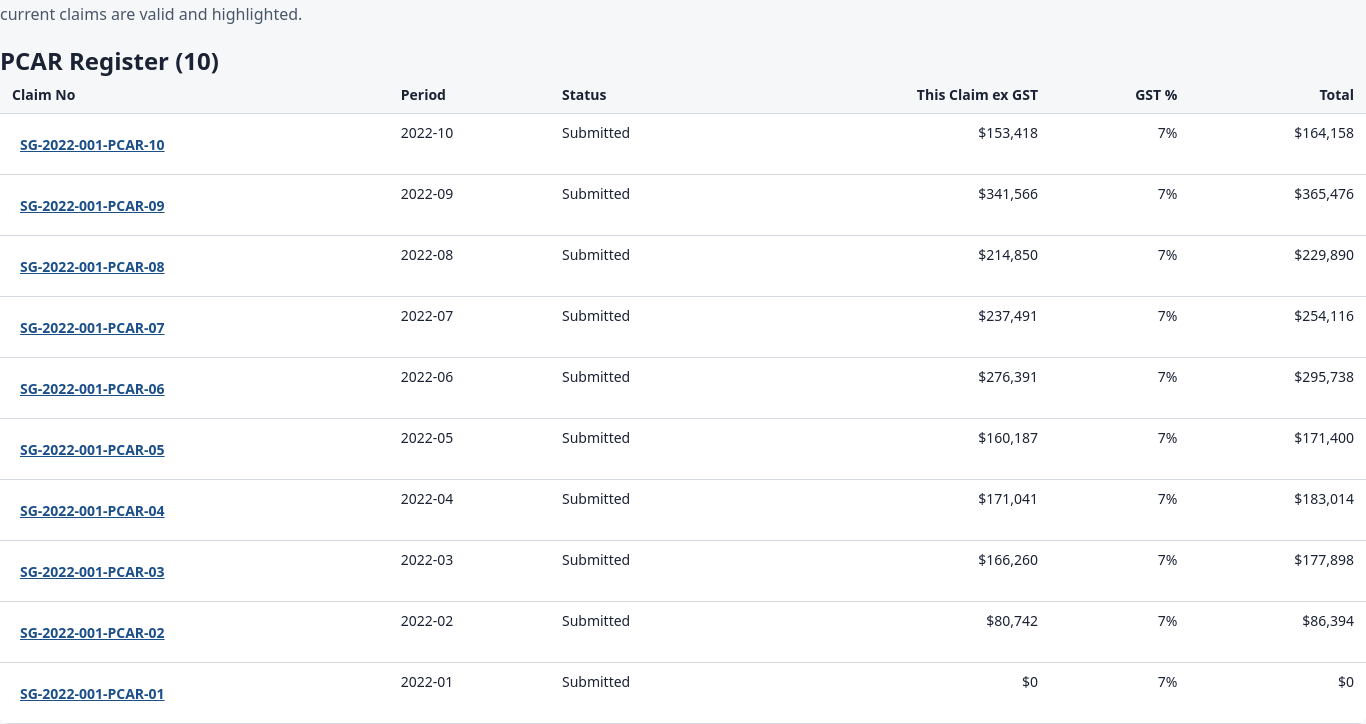
Test: ClaimsView (TASK-007) › opens the wizard and shows the SPEC-004 summary fields
(page scrolled)
Click the button "SG-2022-001-PCAR-01": {"x": 92, "y": 693} [12,671,173,715]
(page scrolled)
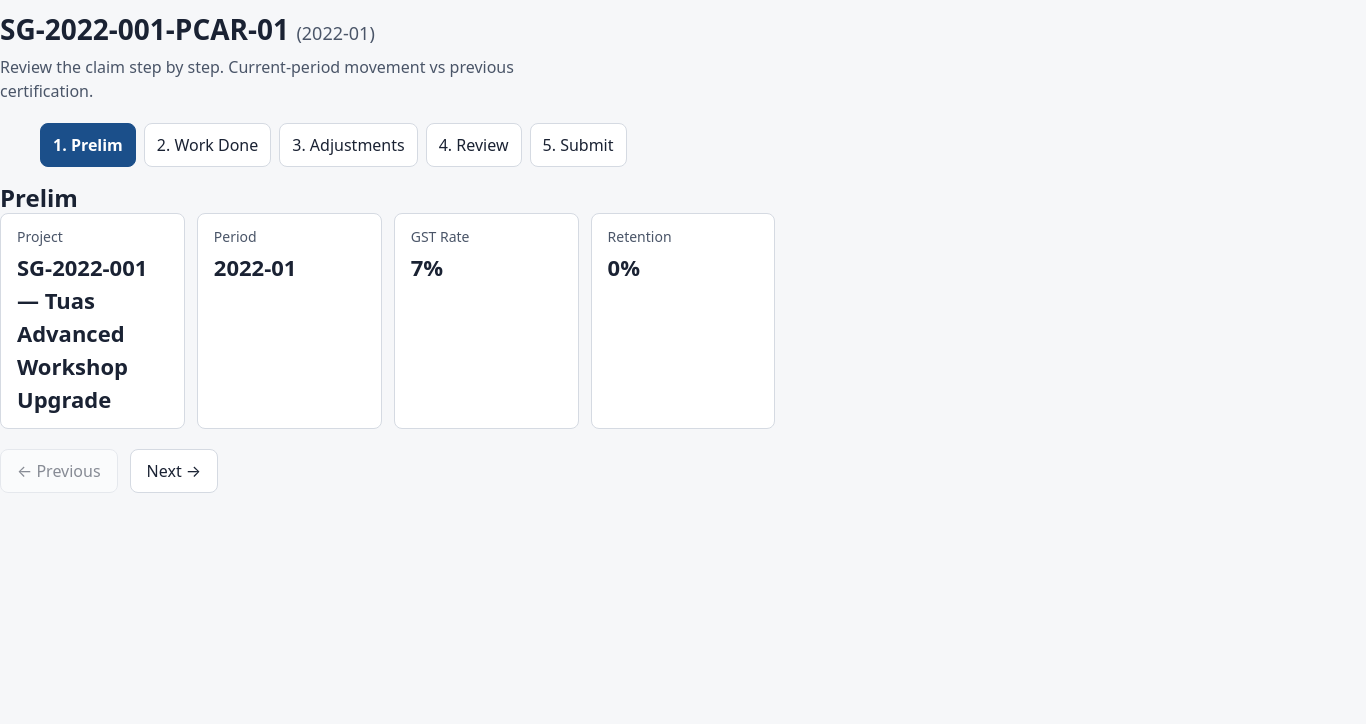
Click the button "4. Review": {"x": 474, "y": 145} [426,123,522,167]
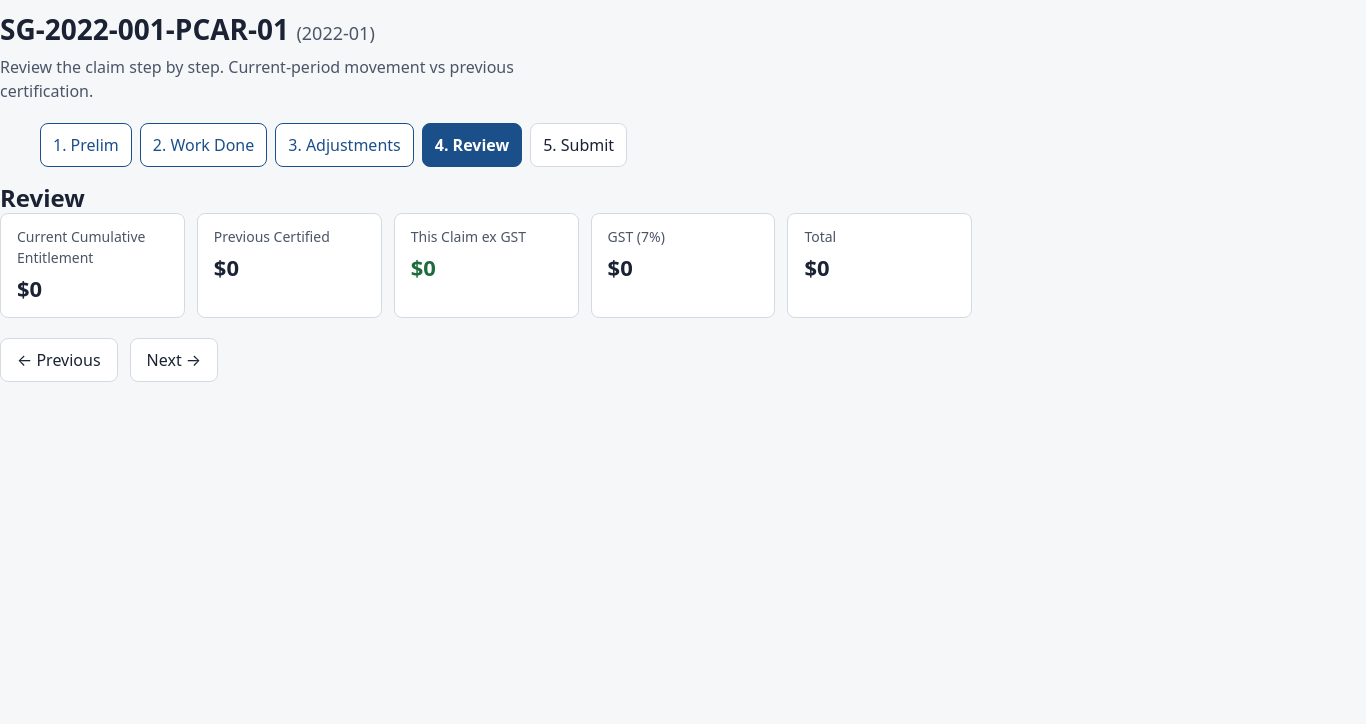
Check: the text "Current Cumulative Entitlement" is shown, box [17,226,168,268]
Check: the text "Previous Certified" is shown, box [214,227,330,246]
Check: the text "This Claim ex GST" is shown, box [411,227,526,246]
